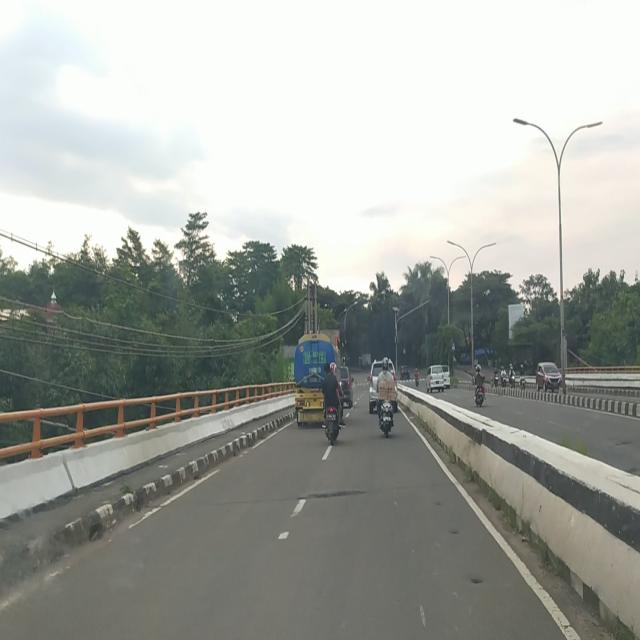Sewer Cover: (217, 489, 397, 506)
